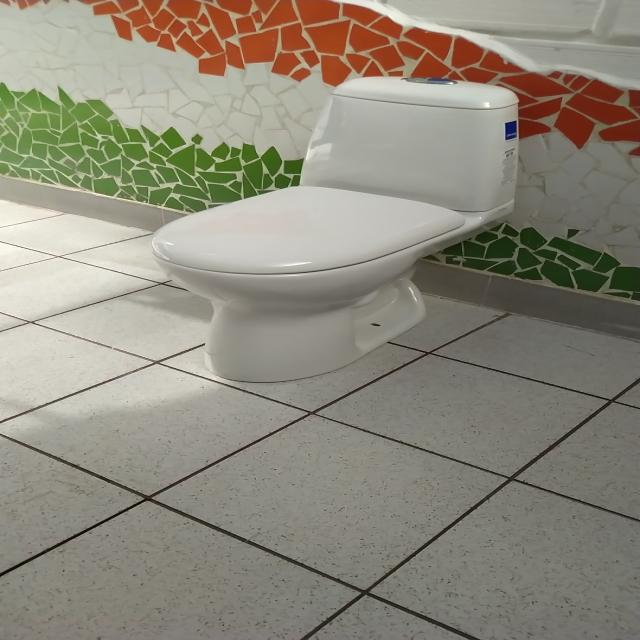toilet: (149, 75, 520, 383)
